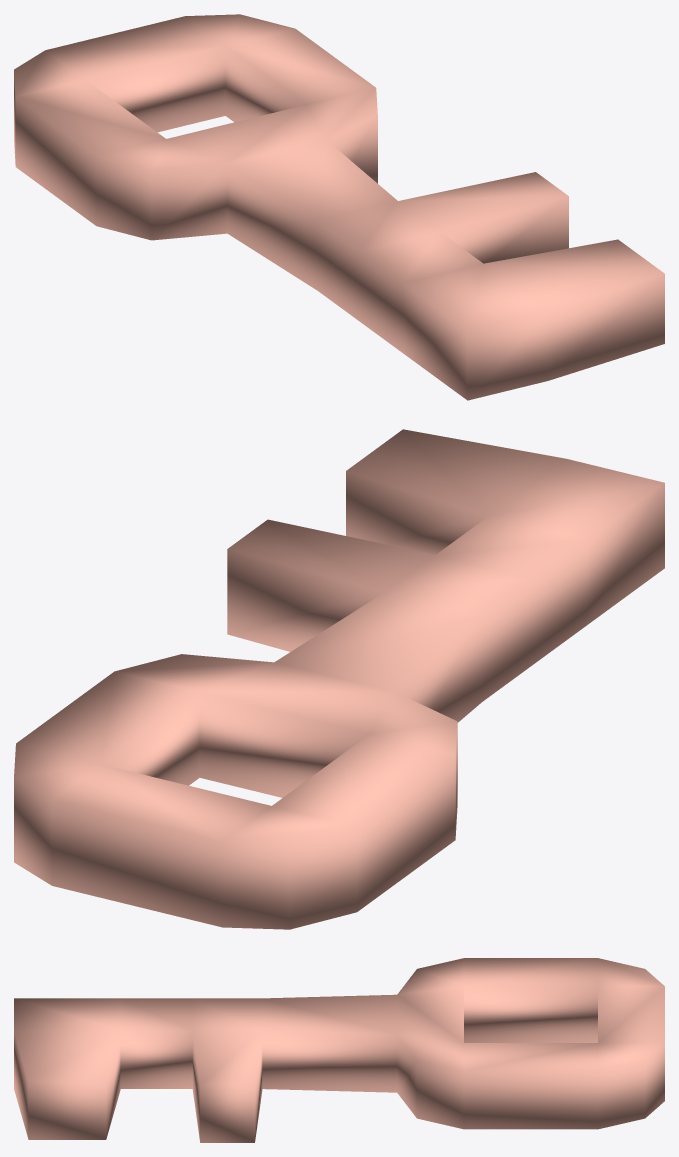
Rendered from key_rose.fbx.
3 views of the same model, one above another, from view 1: azimuth 30°, elevation 25°; view 2: azimuth 150°, elevation 25°; view 3: azimuth 270°, elevation 25° (orthographic). The views are drawn at different scales.
Visible parts, largest first — view 1: key_rose; view 2: key_rose; view 3: key_rose.
Part boxes in pixels (x1=…): key_rose: x1=14, y1=14, x2=664, y2=400; key_rose: x1=14, y1=429, x2=664, y2=929; key_rose: x1=14, y1=958, x2=664, y2=1142.
Bounding box in the file's own units: 0.1407 × 0.0301 × 0.3056.
